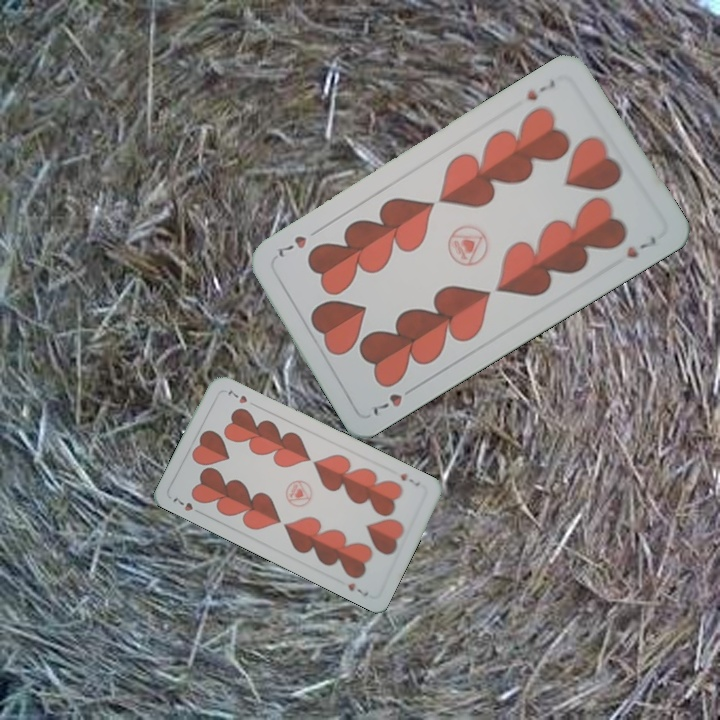H7: (369, 382, 419, 419), (522, 75, 558, 104), (168, 493, 195, 514), (396, 469, 422, 489)
